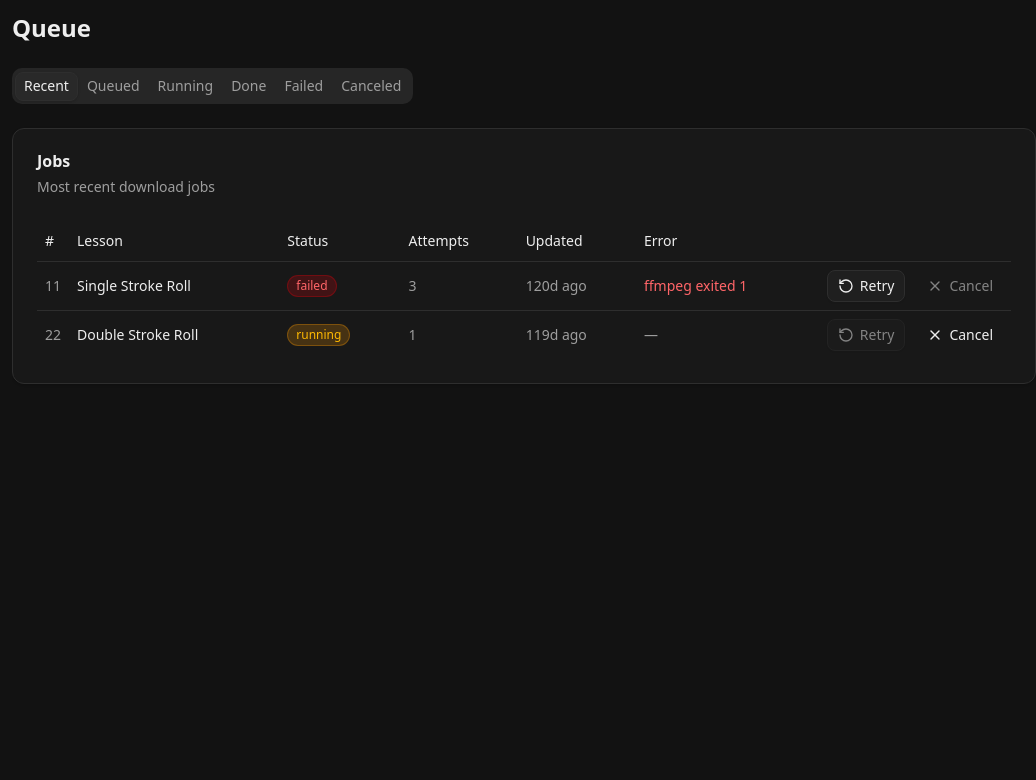
Scenario: a cancel that really failed stays red with the server's sentence until closed, and refreshes the list
expect the text "Double Stroke Roll" is shown: met, box [69,310,279,358]
What coordinates should you click on to do the following:
click the button "Cancel" in the row of "22"
I would click on:
 (960, 334)
Its box is [917,318,1003,350].
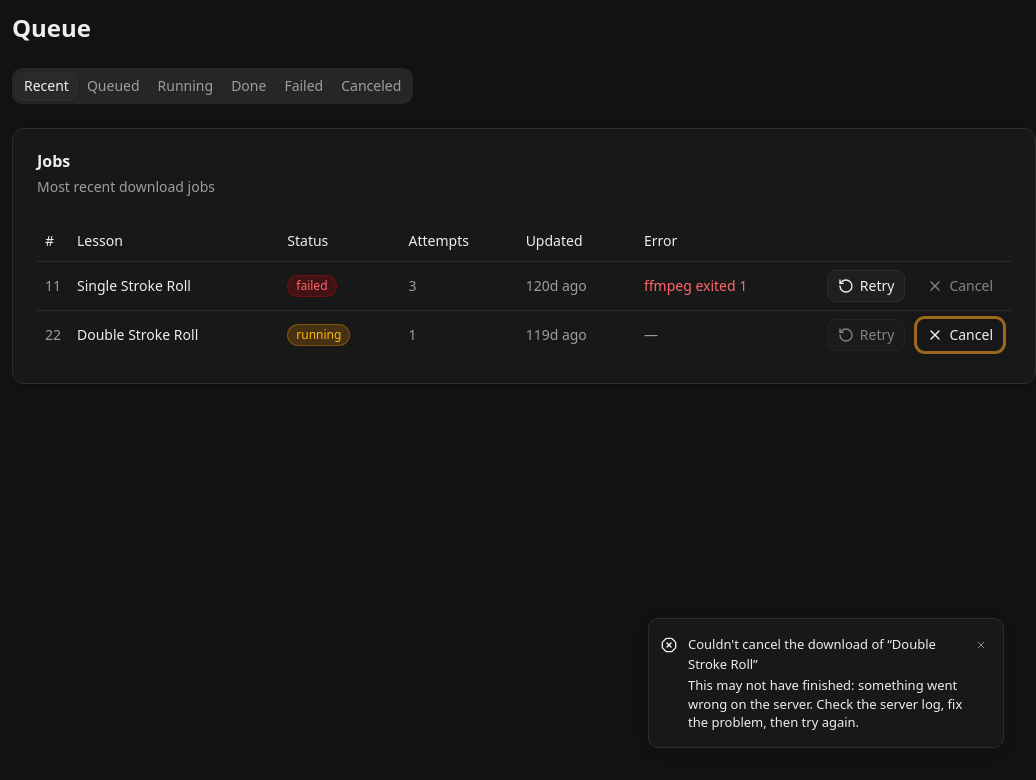
expect the text "This may not have finished: something went wrong on the server. Check the server log, fix the problem, then try again." is shown: met, box [688,676,962,731]
expect the button named "Close toast" is shown: met, box [971,635,991,655]
